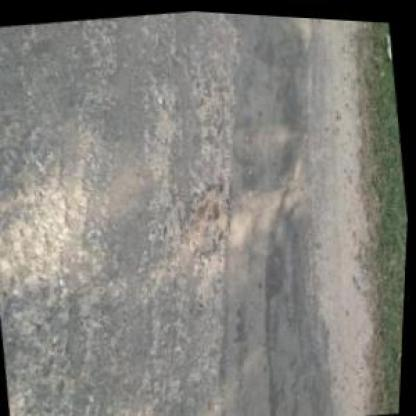pothole: (179, 175, 244, 259)
